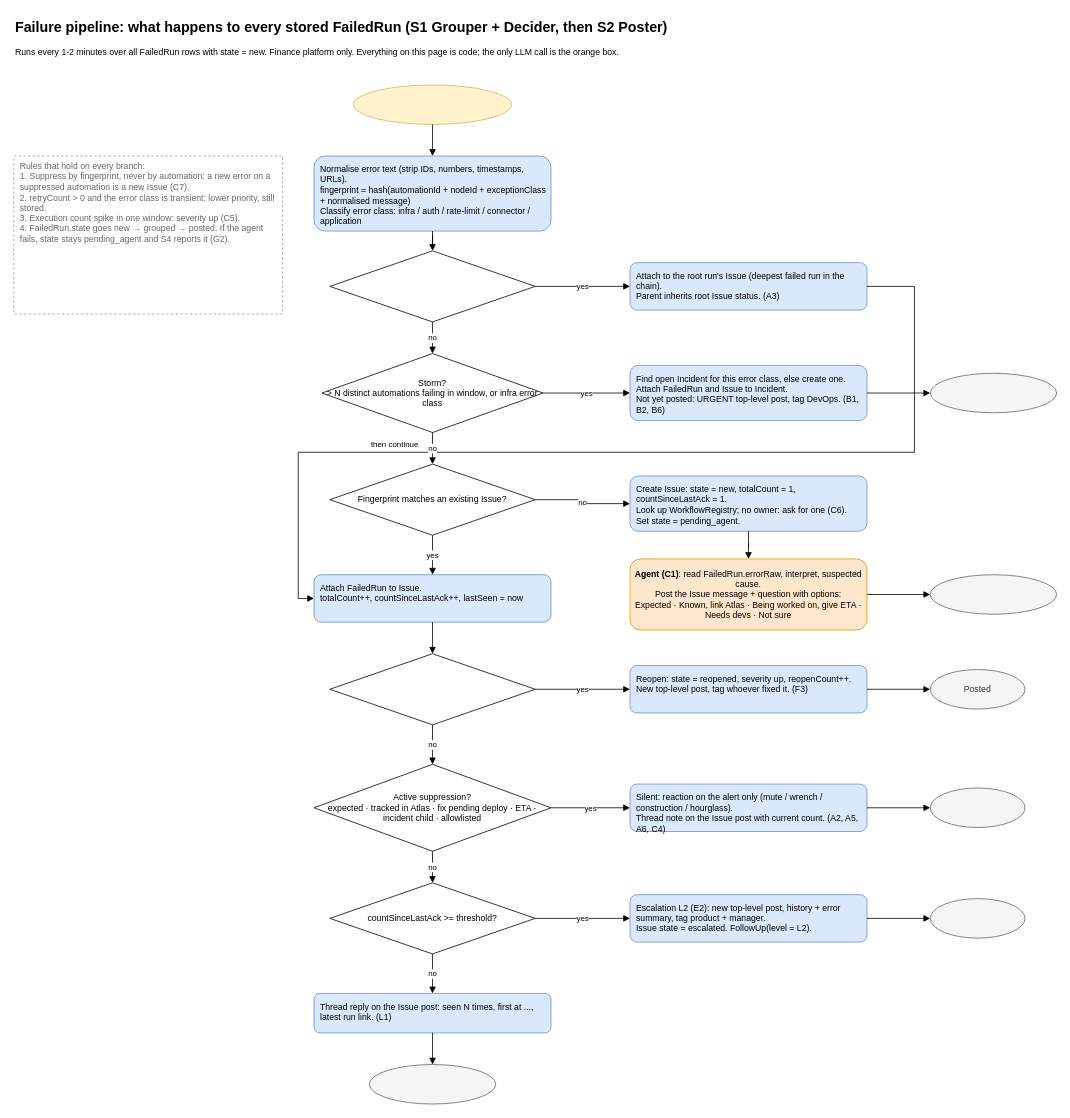
The diagram is 1070 pixels wide and 1118 high, and some of its shapes have lost their labels. Here are the shapes that lost their labels. From the top down, the centre of each, then its label:
At pixel 432 104: "FailedRun, state = new".
At pixel 432 286: "Cascade? another FailedRun shares rootExecutionId".
At pixel 993 392: "Posted as one Incident".
At pixel 993 594: "Issue: triaging (awaiting answer)".
At pixel 432 689: "Issue state = resolved? (failure came back)".
At pixel 977 807: "Silent".
At pixel 977 918: "Escalated".
At pixel 432 1084: "Posted in thread".
